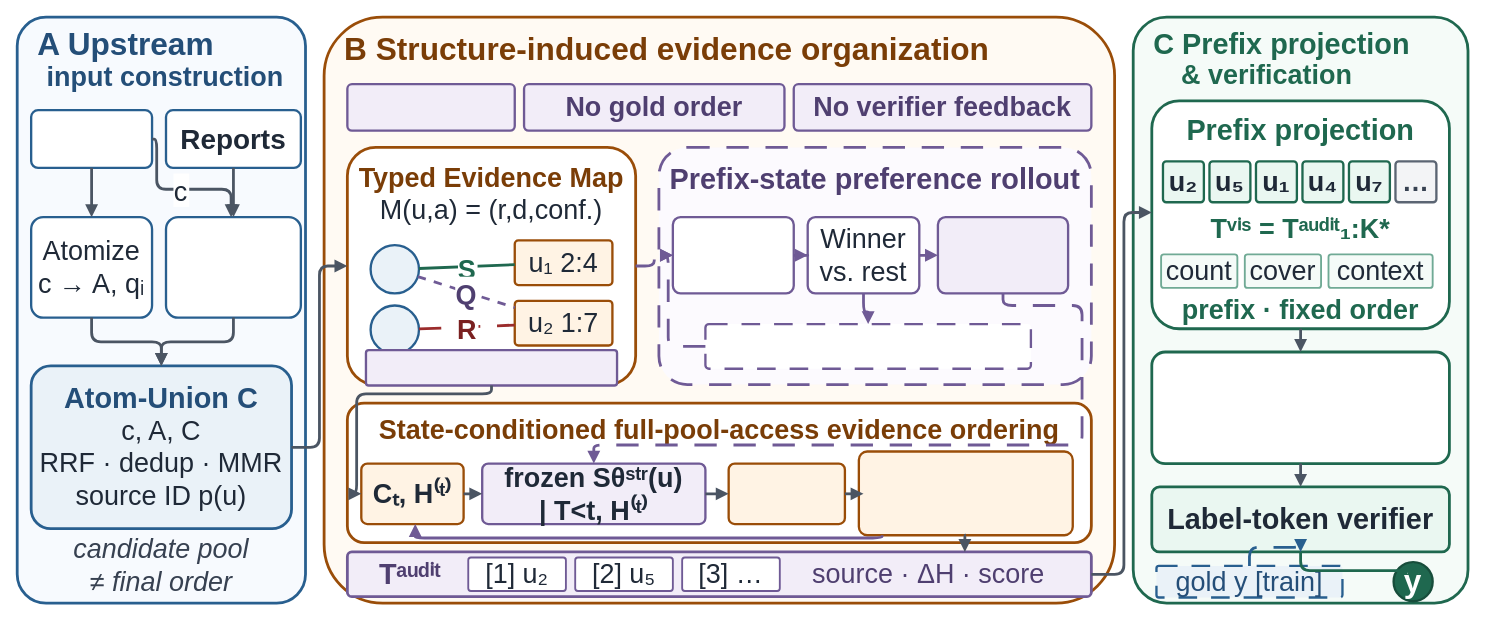
This 1485x620 diagram has some shape labels left out. Here are the shapes that lost their labels. From the top down, the centre of each, then its label:
At (430,107): "No verdict y".
At (91,139): "Claim c".
At (233,267): "Chunk R,c U, p(u)".
At (394,268): "a₁".
At (732,255): "Structure priority".
At (1002,255): "Pairwise distill θ".
At (394,329): "a₂".
At (868,346): "update H,T → next t".
At (491,367): "H⁽ᵗ⁾={hᵢ⁽ᵗ⁾} ≠ y".
At (1300,407): "Verifier input claim + atom cues raw text; metadata out".
At (786,493): "Select uₜ".
At (965,493): "add/remove uₜ update H⁽ᵗ⁺¹⁾".
